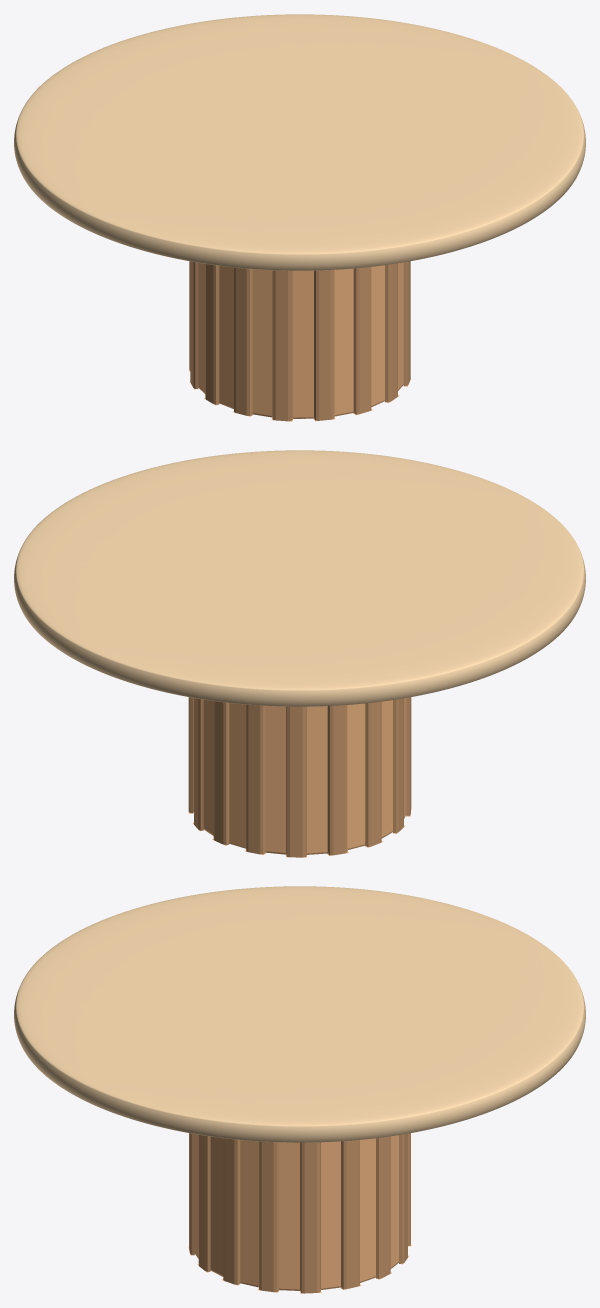
The model's file is Table.fbx.
3 renders of one model, top to bottom at view 1: azimuth 30°, elevation 25°; view 2: azimuth 150°, elevation 25°; view 3: azimuth 270°, elevation 25°, orthographic.
Visible parts, largest first — view 1: Table Disk, Table bottom 2, Table bottom 1; view 2: Table Disk, Table bottom 2, Table bottom 1; view 3: Table Disk, Table bottom 2, Table bottom 1.
Part boxes in pixels (x1,y1,x2,y2): Table Disk: [14, 14, 585, 270]; Table bottom 2: [189, 261, 410, 421]; Table bottom 1: [189, 262, 410, 421]; Table Disk: [14, 450, 585, 706]; Table bottom 2: [188, 697, 411, 857]; Table bottom 1: [188, 698, 410, 857]; Table Disk: [14, 886, 585, 1142]; Table bottom 2: [189, 1133, 410, 1293]; Table bottom 1: [188, 1134, 411, 1293].
Size of the model in its own units: 426 by 200 by 426.
